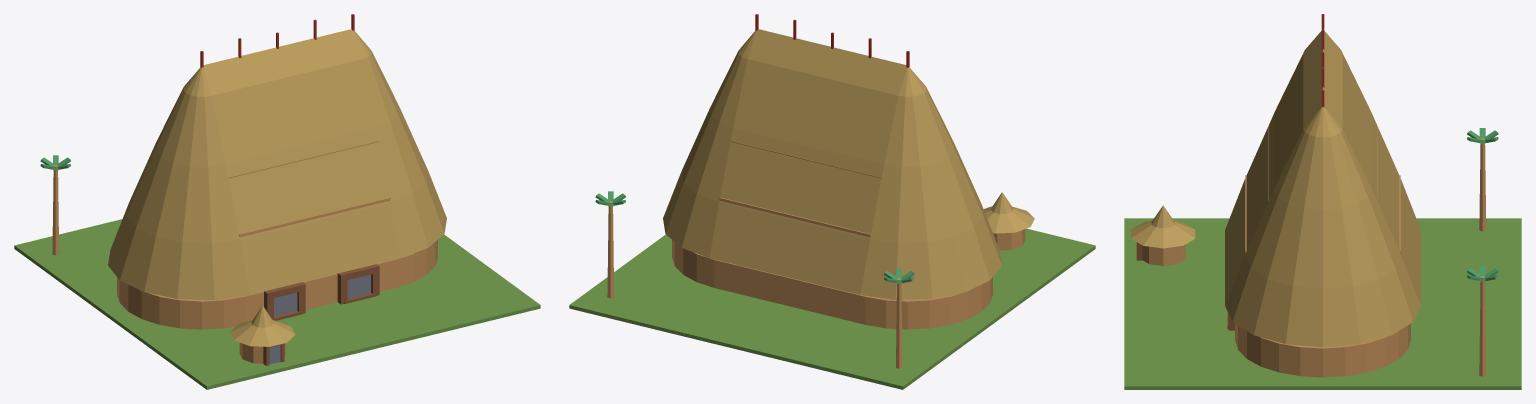
File: house-2x2-3f-maloca-a.glb
3 renders of one model, left to right at view 1: azimuth 30°, elevation 25°; view 2: azimuth 150°, elevation 25°; view 3: azimuth 270°, elevation 25°, orthographic. The views are drawn at different scales.
Parts seen in each view (by area): view 1: house-2x2-3f-maloca-a; view 2: house-2x2-3f-maloca-a; view 3: house-2x2-3f-maloca-a.
Part boxes in pixels (x1=…): house-2x2-3f-maloca-a: x1=14, y1=14, x2=540, y2=389; house-2x2-3f-maloca-a: x1=569, y1=14, x2=1095, y2=389; house-2x2-3f-maloca-a: x1=1124, y1=14, x2=1521, y2=389.
Size of the model in its own units: 1.99 by 1.42 by 1.99.
Materials: 1 (1 with a texture image).
